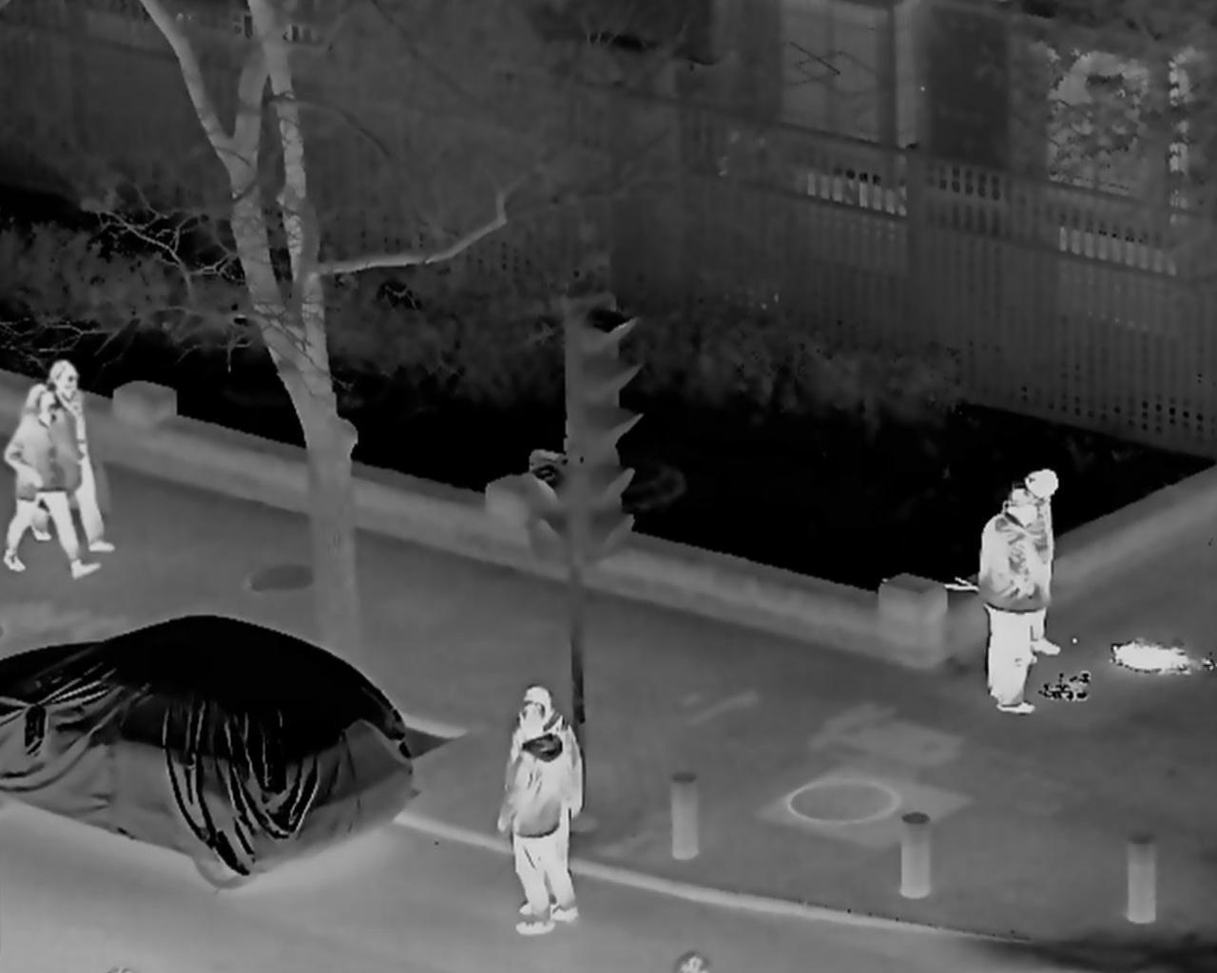person: (496, 685, 583, 917), (16, 361, 115, 555), (4, 386, 101, 582), (506, 708, 575, 935), (980, 493, 1035, 715), (1006, 468, 1063, 665)
